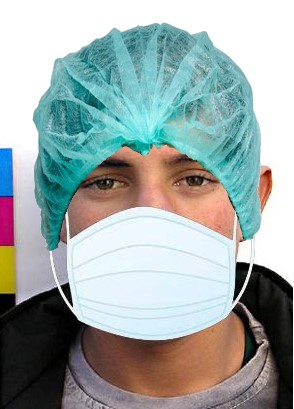with_mask_and_cap: (32, 21, 272, 343)
